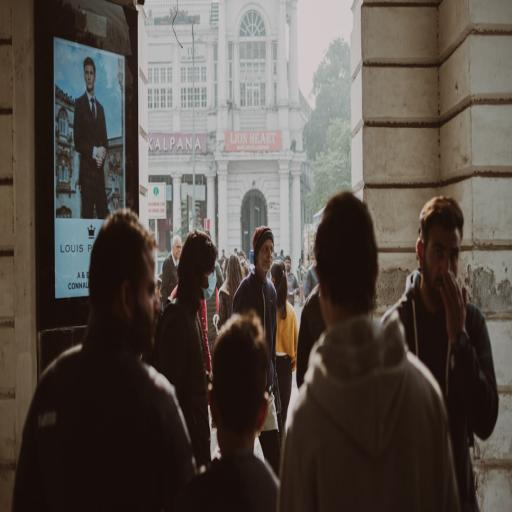face: (420, 225, 461, 305), (132, 252, 160, 351), (255, 239, 273, 272), (173, 239, 182, 261)
